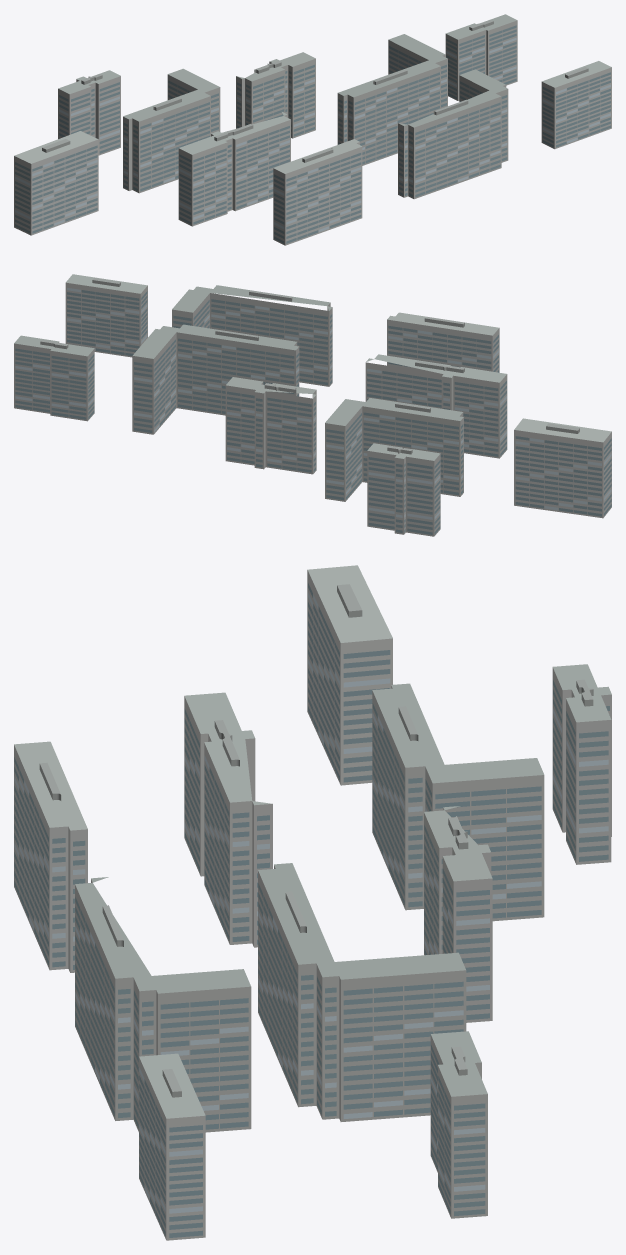
Rendered from apt-a13522007.glb.
3 renders of one model, top to bottom at view 1: azimuth 30°, elevation 25°; view 2: azimuth 150°, elevation 25°; view 3: azimuth 270°, elevation 25°, orthographic. The views are drawn at different scales.
Parts seen in each view (by area): view 1: apt-a13522007; view 2: apt-a13522007; view 3: apt-a13522007.
Part boxes in pixels (left/top/right/bottom): apt-a13522007: left=14, top=14, right=611, bottom=245; apt-a13522007: left=14, top=274, right=611, bottom=536; apt-a13522007: left=14, top=565, right=611, bottom=1240.
Bounding box in the file's own units: 367 × 47.81 × 174.
